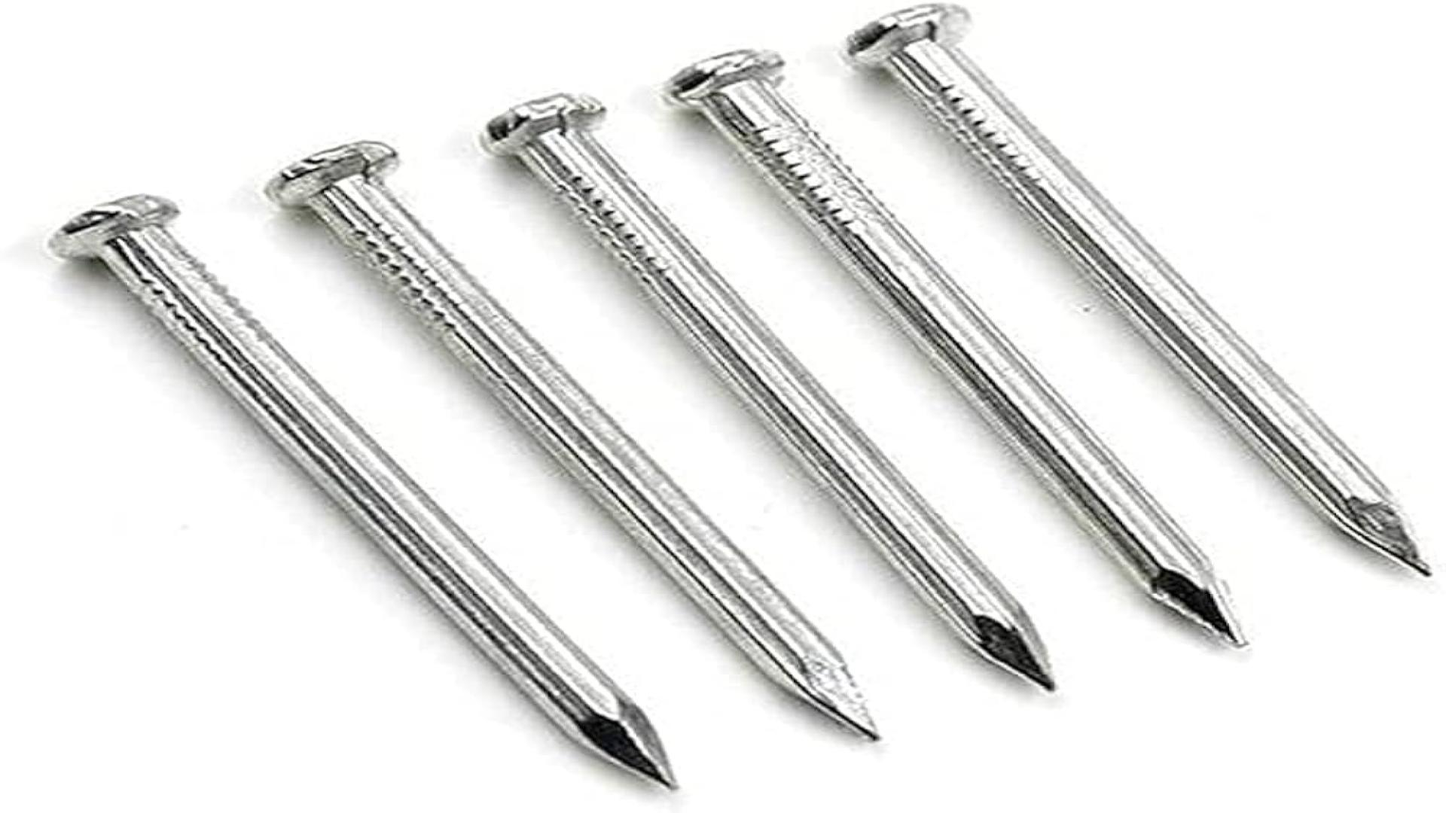nail: (2, 2, 1441, 813)
